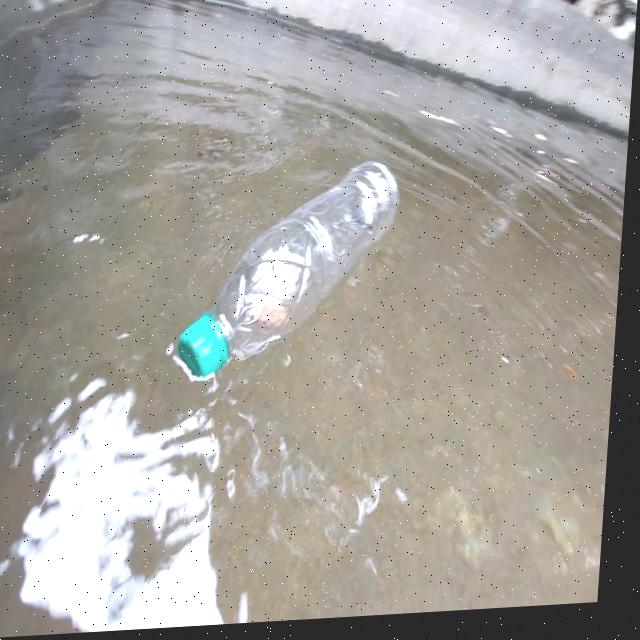waterbottle: (144, 156, 426, 395)
